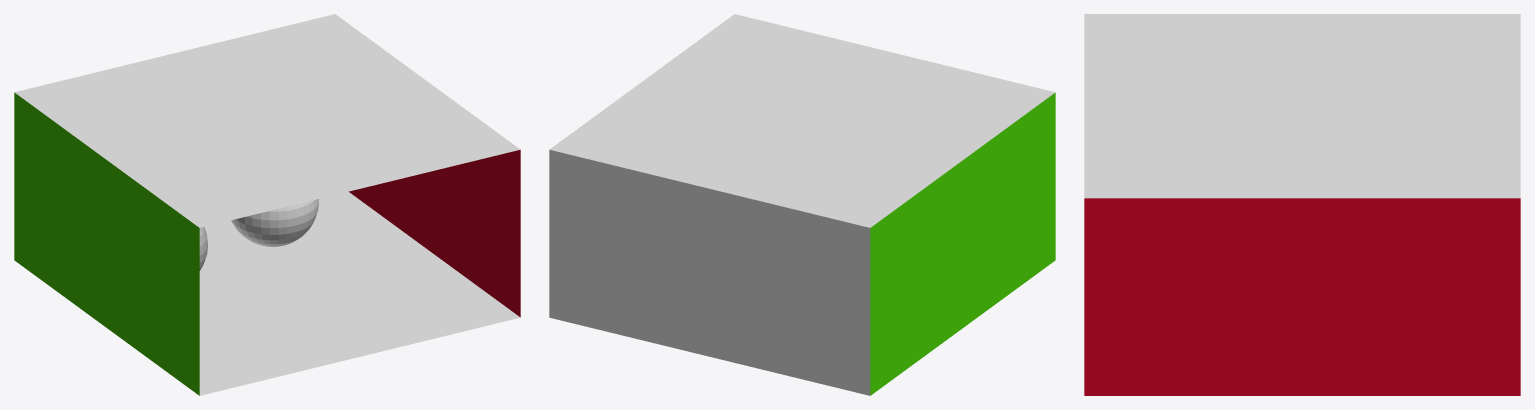
The picture shows the model from 3 angles, left to right: view 1: azimuth 30°, elevation 25°; view 2: azimuth 150°, elevation 25°; view 3: azimuth 270°, elevation 25°; orthographic projection. The views are drawn at different scales.
Visible parts, largest first — view 1: Cube, Sphere.001; view 2: Cube; view 3: Cube.
Part boxes in pixels (left/top/right/bottom): Cube: left=14, top=14, right=520, bottom=395; Sphere.001: left=231, top=199, right=318, bottom=246; Cube: left=549, top=14, right=1055, bottom=395; Cube: left=1084, top=14, right=1520, bottom=395.
Bounding box in the file's own units: 8 × 8 × 4.
